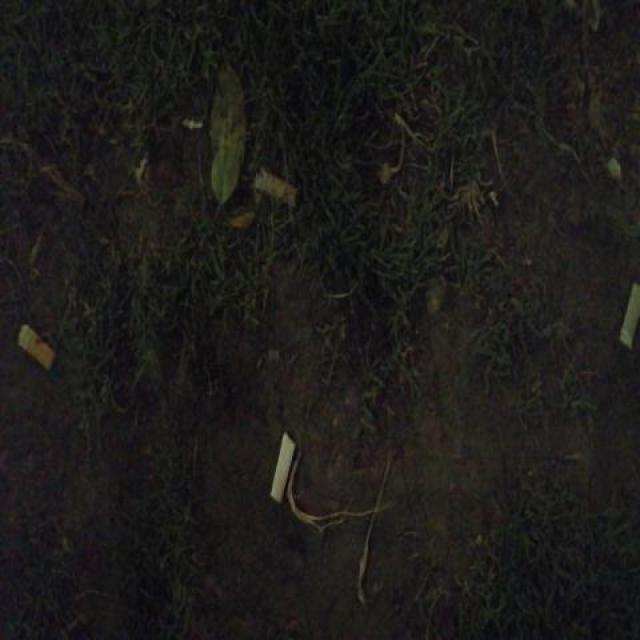non-organic waste: (246, 162, 302, 214), (13, 317, 59, 374), (266, 427, 298, 506), (618, 280, 638, 349)
